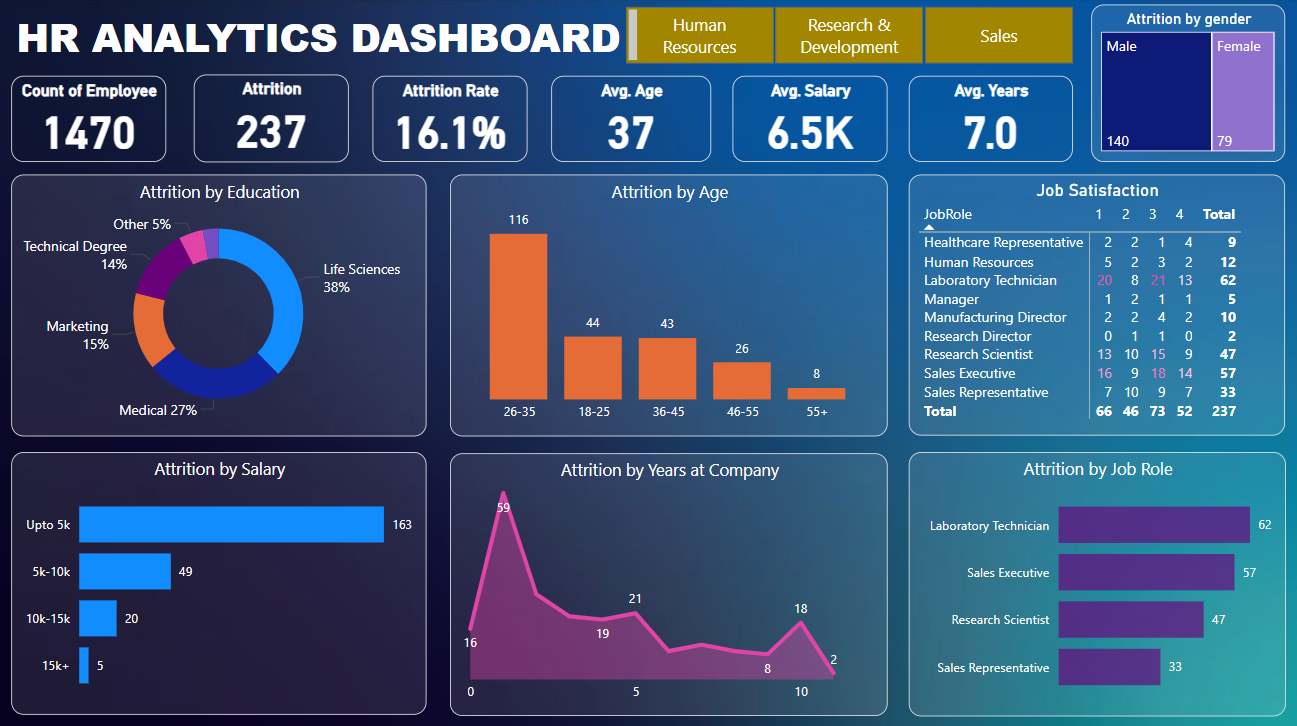

This screenshot's page, from the dashboard's own definition file:
{"tool":"powerbi","page":{"name":"Page 1","canvas":[1280,720],"ordinal":0},"visuals":[{"type":"card","title":"Count of Employee","fields":{"Values":["Count(HR_Analytics.EmpID)"]},"box":[30.2,76,149.6,83.2],"z":0},{"type":"card","title":"Attrition","fields":{"Values":["Sum(HR_Analytics.AttritionCount)"]},"box":[206.3,74.8,149.6,84.5],"z":1000},{"type":"card","title":"Avg. Salary","fields":{"Values":["Avg(HR_Analytics.MonthlyIncome)"]},"box":[726.3,76,149.6,83.2],"z":2000},{"type":"card","title":"Avg. Age","fields":{"Values":["Avg(HR_Analytics.Age)"]},"box":[551.3,76,154.4,83.2],"z":3000},{"type":"card","title":"Attrition Rate","fields":{"Values":["HR_Analytics.AttritionRate"]},"box":[378.8,76,149.6,83.2],"z":4000},{"type":"card","title":"Avg. Years","fields":{"Values":["Avg(HR_Analytics.YearsAtCompany)"]},"box":[896.4,76,158,83.2],"z":5000},{"type":"donutChart","title":"Attrition by Education","fields":{"Category":["HR_Analytics.EducationField"],"Y":["Sum(HR_Analytics.AttritionCount)"]},"box":[30.2,171.1,400.7,252.5],"z":6000},{"type":"columnChart","title":"Attrition by Age","fields":{"Category":["HR_Analytics.AgeGroup"],"Y":["Sum(HR_Analytics.AttritionCount)"]},"box":[454.2,171.5,422.6,252.5],"z":7000},{"type":"pivotTable","title":"Job Satisfaction","fields":{"Rows":["HR_Analytics.JobRole"],"Columns":["HR_Analytics.JobSatisfaction"],"Values":["Sum(HR_Analytics.AttritionCount)"]},"box":[896.4,171.3,363.1,252.1],"z":8000},{"type":"barChart","title":"Attrition by Salary","fields":{"Category":["HR_Analytics.SalarySlab"],"Y":["Sum(HR_Analytics.AttritionCount)"]},"box":[30.2,439.5,400.5,253.4],"z":9000},{"type":"barChart","title":"Attrition by Job Role","fields":{"Category":["HR_Analytics.JobRole"],"Y":["Sum(HR_Analytics.AttritionCount)"]},"box":[896.1,439.1,363.6,255.2],"z":10000},{"type":"areaChart","title":"Attrition by Years at Company","fields":{"Category":["HR_Analytics.YearsAtCompany"],"Y":["Sum(HR_Analytics.AttritionCount)"]},"box":[454.2,440.1,422.6,253.9],"z":11000},{"type":"treemap","title":"Attrition by gender","fields":{"Group":["HR_Analytics.Gender"],"Values":["Sum(HR_Analytics.AttritionCount)"]},"box":[1072.5,7.2,187,152],"z":12000},{"type":"slicer","fields":{"Values":["HR_Analytics.Department"]},"box":[607.6,3.2,470.8,68.4],"z":13000},{"type":"textbox","box":[30.2,6.4,609.2,65.2],"z":14000}]}

Visuals, with their boxes in screenshot pixels (x1, y1, x2, y2), scaled from the page's 1280x720 canvas onto the 1297x726 screenshot:
"Count of Employee" card: 31/77/182/161
"Attrition" card: 209/75/361/161
"Avg. Salary" card: 736/77/888/161
"Avg. Age" card: 559/77/715/161
"Attrition Rate" card: 384/77/535/161
"Avg. Years" card: 908/77/1068/161
"Attrition by Education" donutChart: 31/173/437/427
"Attrition by Age" columnChart: 460/173/888/428
"Job Satisfaction" pivotTable: 908/173/1276/427
"Attrition by Salary" barChart: 31/443/436/699
"Attrition by Job Role" barChart: 908/443/1276/700
"Attrition by Years at Company" areaChart: 460/444/888/700
"Attrition by gender" treemap: 1087/7/1276/161
slicer - HR_Analytics.Department: 616/3/1093/72
textbox: 31/6/648/72
